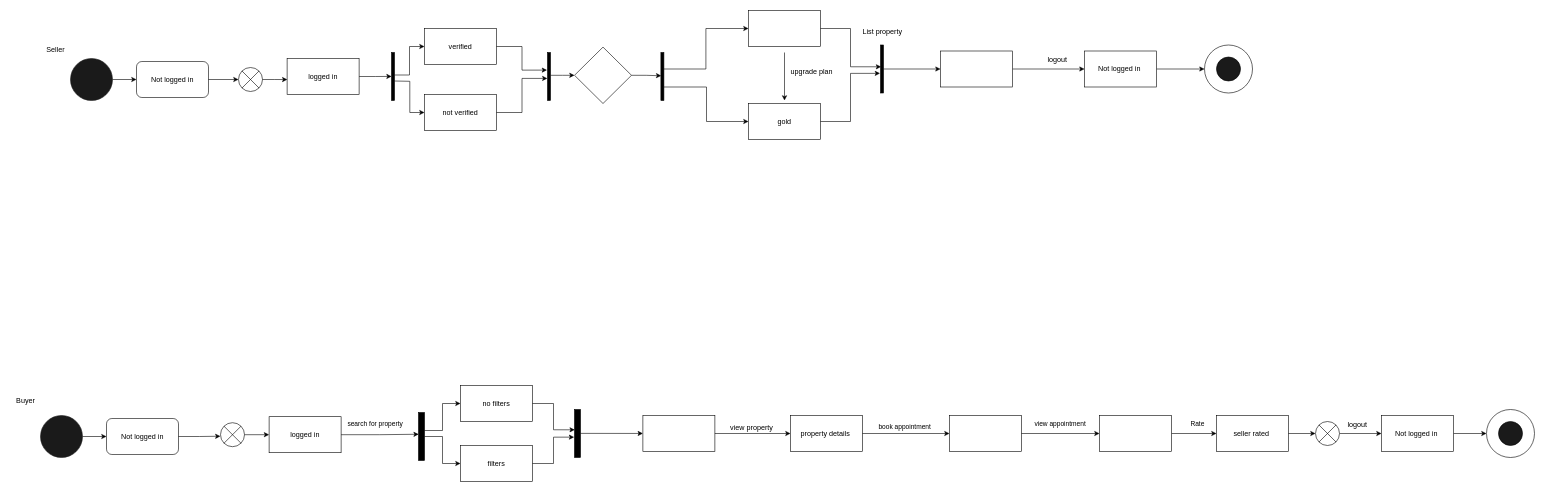
This 1545x492 diagram has some shape labels left out. Here are the shapes that lost their labels. From the top down, the box of each, then its label:
(748, 10, 820, 46): free
(574, 46, 632, 104): Choose Subscription
(940, 50, 1012, 87): property listed
(642, 415, 715, 452): property search results
(949, 415, 1022, 452): appointment booked
(1099, 415, 1172, 452): appointment details
